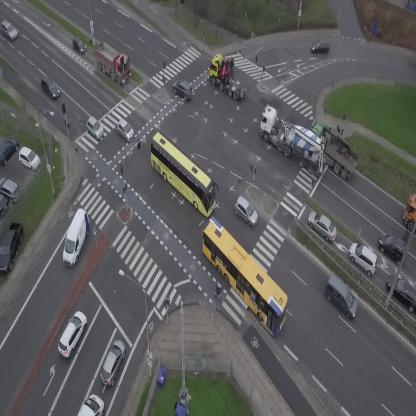bicycle: (212, 283, 223, 305)
bus: (185, 215, 302, 336), (136, 131, 229, 219)
car: (317, 273, 366, 321), (53, 308, 91, 359), (97, 337, 130, 388), (343, 238, 385, 278), (372, 229, 413, 267), (303, 207, 343, 244), (228, 194, 264, 228), (169, 76, 197, 102), (37, 74, 62, 101), (113, 117, 138, 143), (82, 115, 107, 141), (68, 34, 89, 57), (0, 18, 20, 42), (311, 39, 330, 54)
lorry: (248, 103, 340, 180), (302, 116, 366, 183), (200, 48, 258, 102), (85, 36, 139, 87), (56, 207, 96, 267), (78, 394, 104, 416)
